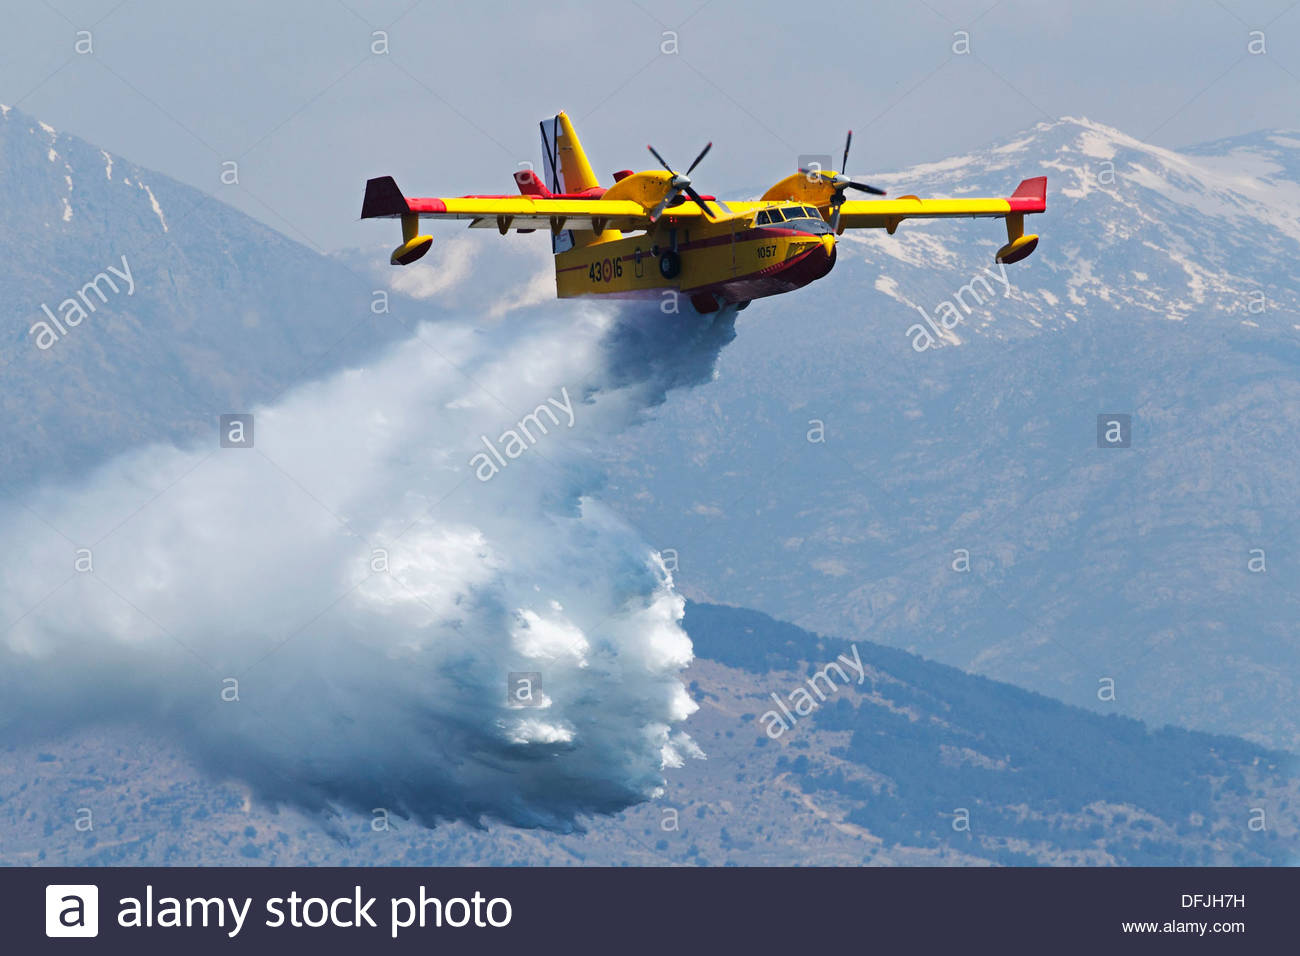Aeronef_de_service: (330, 96, 1085, 362)
